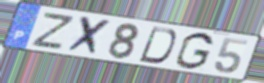5: (213, 36, 250, 74)
8: (106, 22, 141, 61)
D: (136, 25, 178, 65)
G: (174, 31, 216, 71)
X: (63, 14, 114, 58)
Z: (29, 12, 78, 51)
